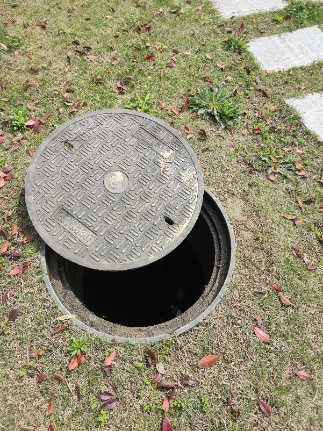uncovered: (24, 110, 236, 342)
